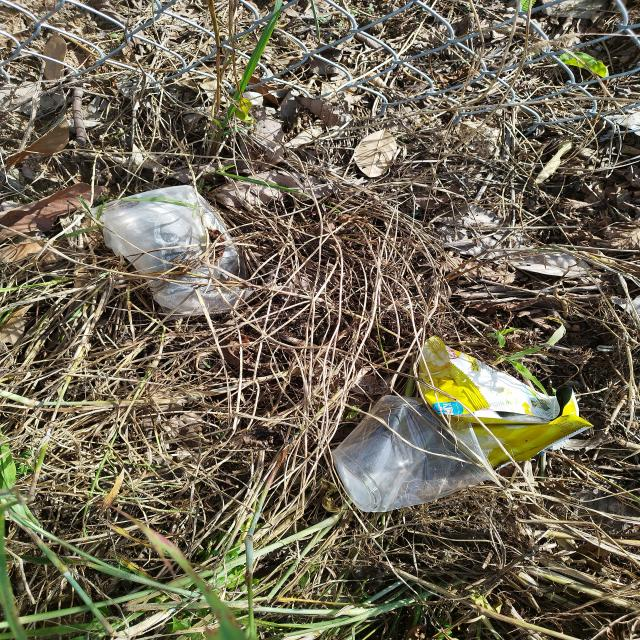plastic glass: (333, 395, 490, 509), (100, 186, 242, 310)
snack package: (418, 336, 594, 472)
